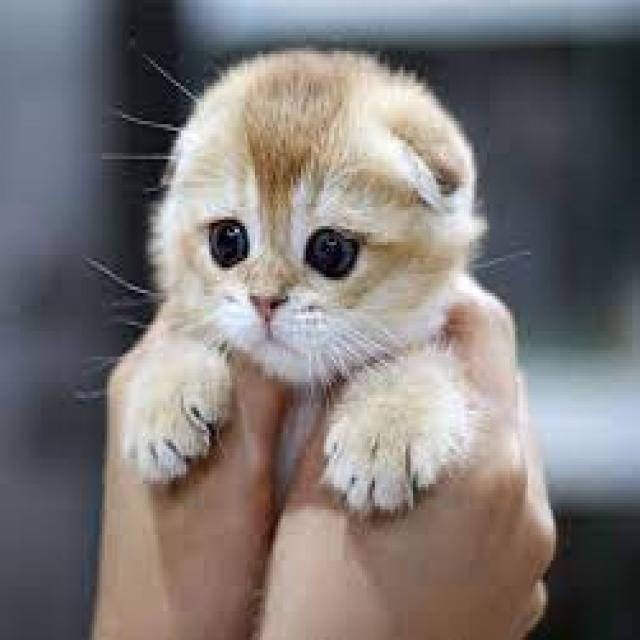cat-face: (96, 27, 585, 554)
